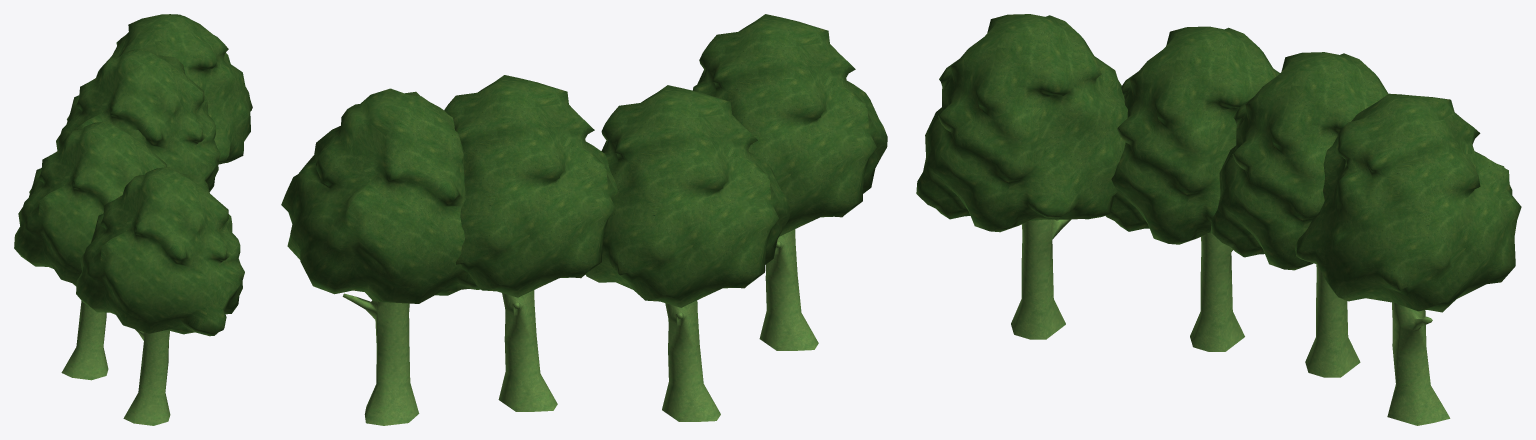
Rendered from SM_ENV_KNFRST_DistanceTreeE_GroupC.FBX.
3 renders of one model, left to right at view 1: azimuth 30°, elevation 25°; view 2: azimuth 150°, elevation 25°; view 3: azimuth 270°, elevation 25°, orthographic. The views are drawn at different scales.
Visible parts, largest first — view 1: SM_ENV_KNFRST_DistanceTreeE_GroupC; view 2: SM_ENV_KNFRST_DistanceTreeE_GroupC; view 3: SM_ENV_KNFRST_DistanceTreeE_GroupC.
Part boxes in pixels (x1,y1,x2,y2): SM_ENV_KNFRST_DistanceTreeE_GroupC: (14, 14, 252, 425); SM_ENV_KNFRST_DistanceTreeE_GroupC: (281, 14, 887, 425); SM_ENV_KNFRST_DistanceTreeE_GroupC: (916, 14, 1521, 425).
Bounding box in the file's own units: 13045 × 10746 × 17108.
